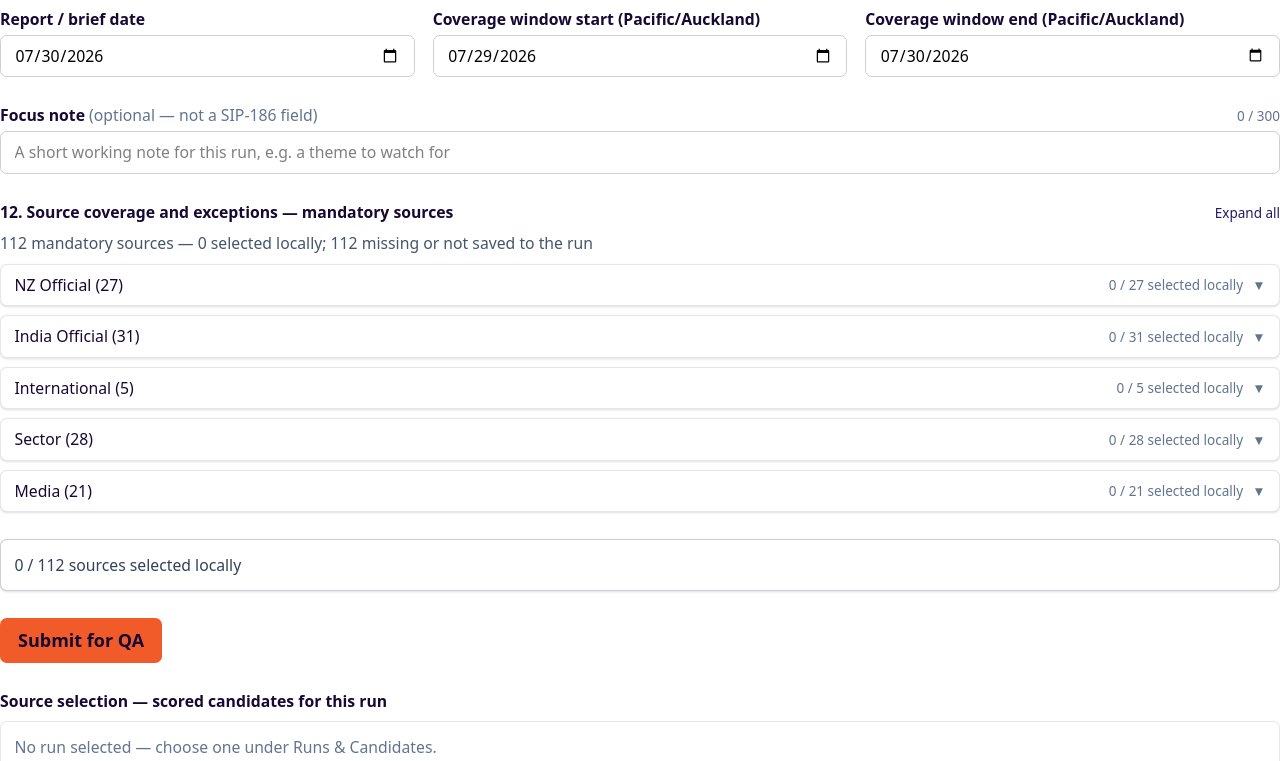
BriefBuilderScreen › leaves collapsed groups collapsed through a failed submit attempt, and expand still works after
(page scrolled)
Click the button "Submit for QA": point(81, 640) [0,618,162,663]
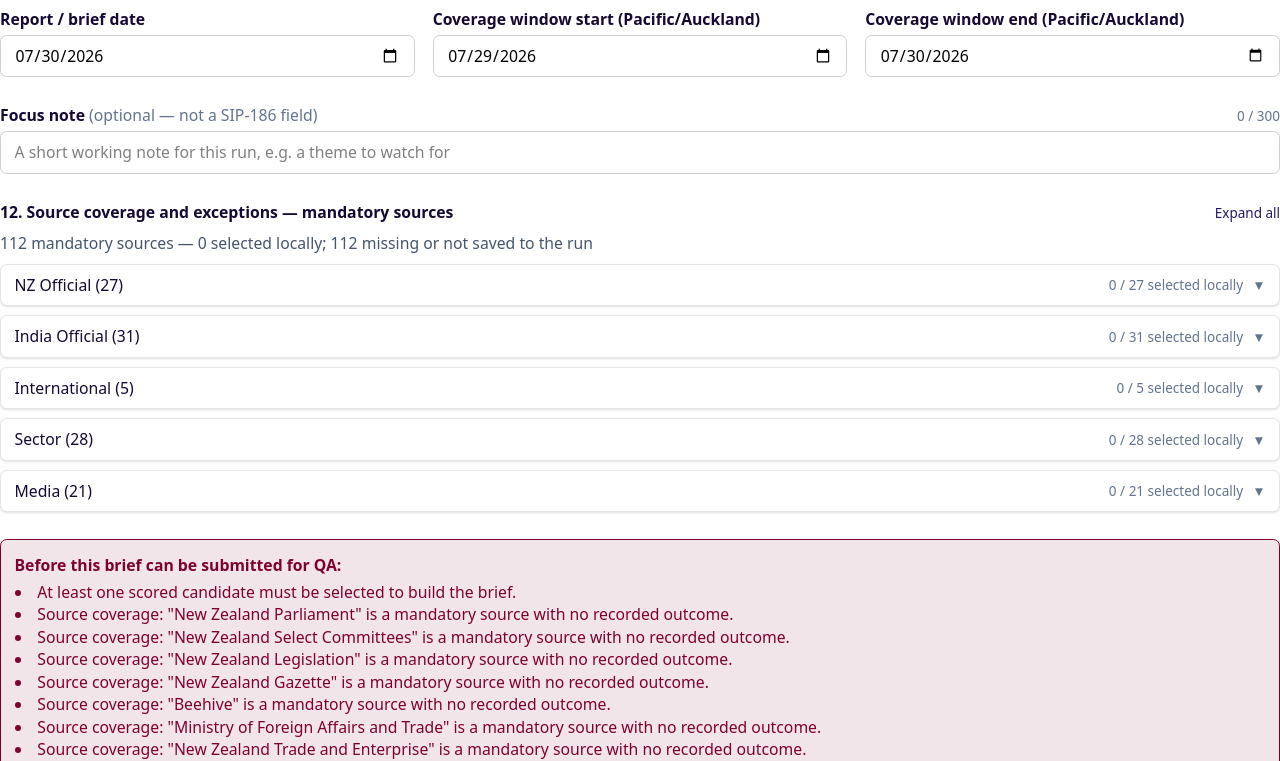
Note: Expanding a single category still works normally with the red box showing.
Click the button "NZ Official (27) 0 / 27 selected locally ▼": point(53, 285) [1,265,1279,306]
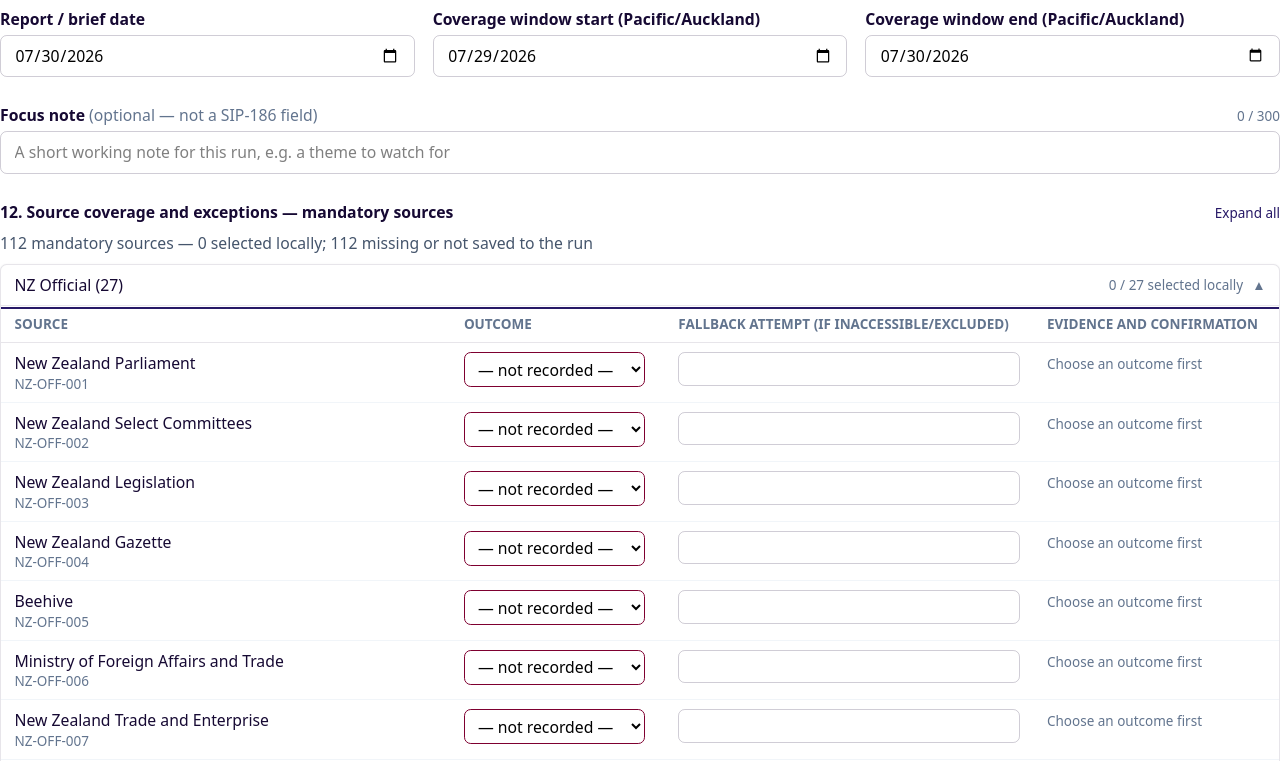
Result: the text "New Zealand Parliament" is shown at [14,352,196,374]
